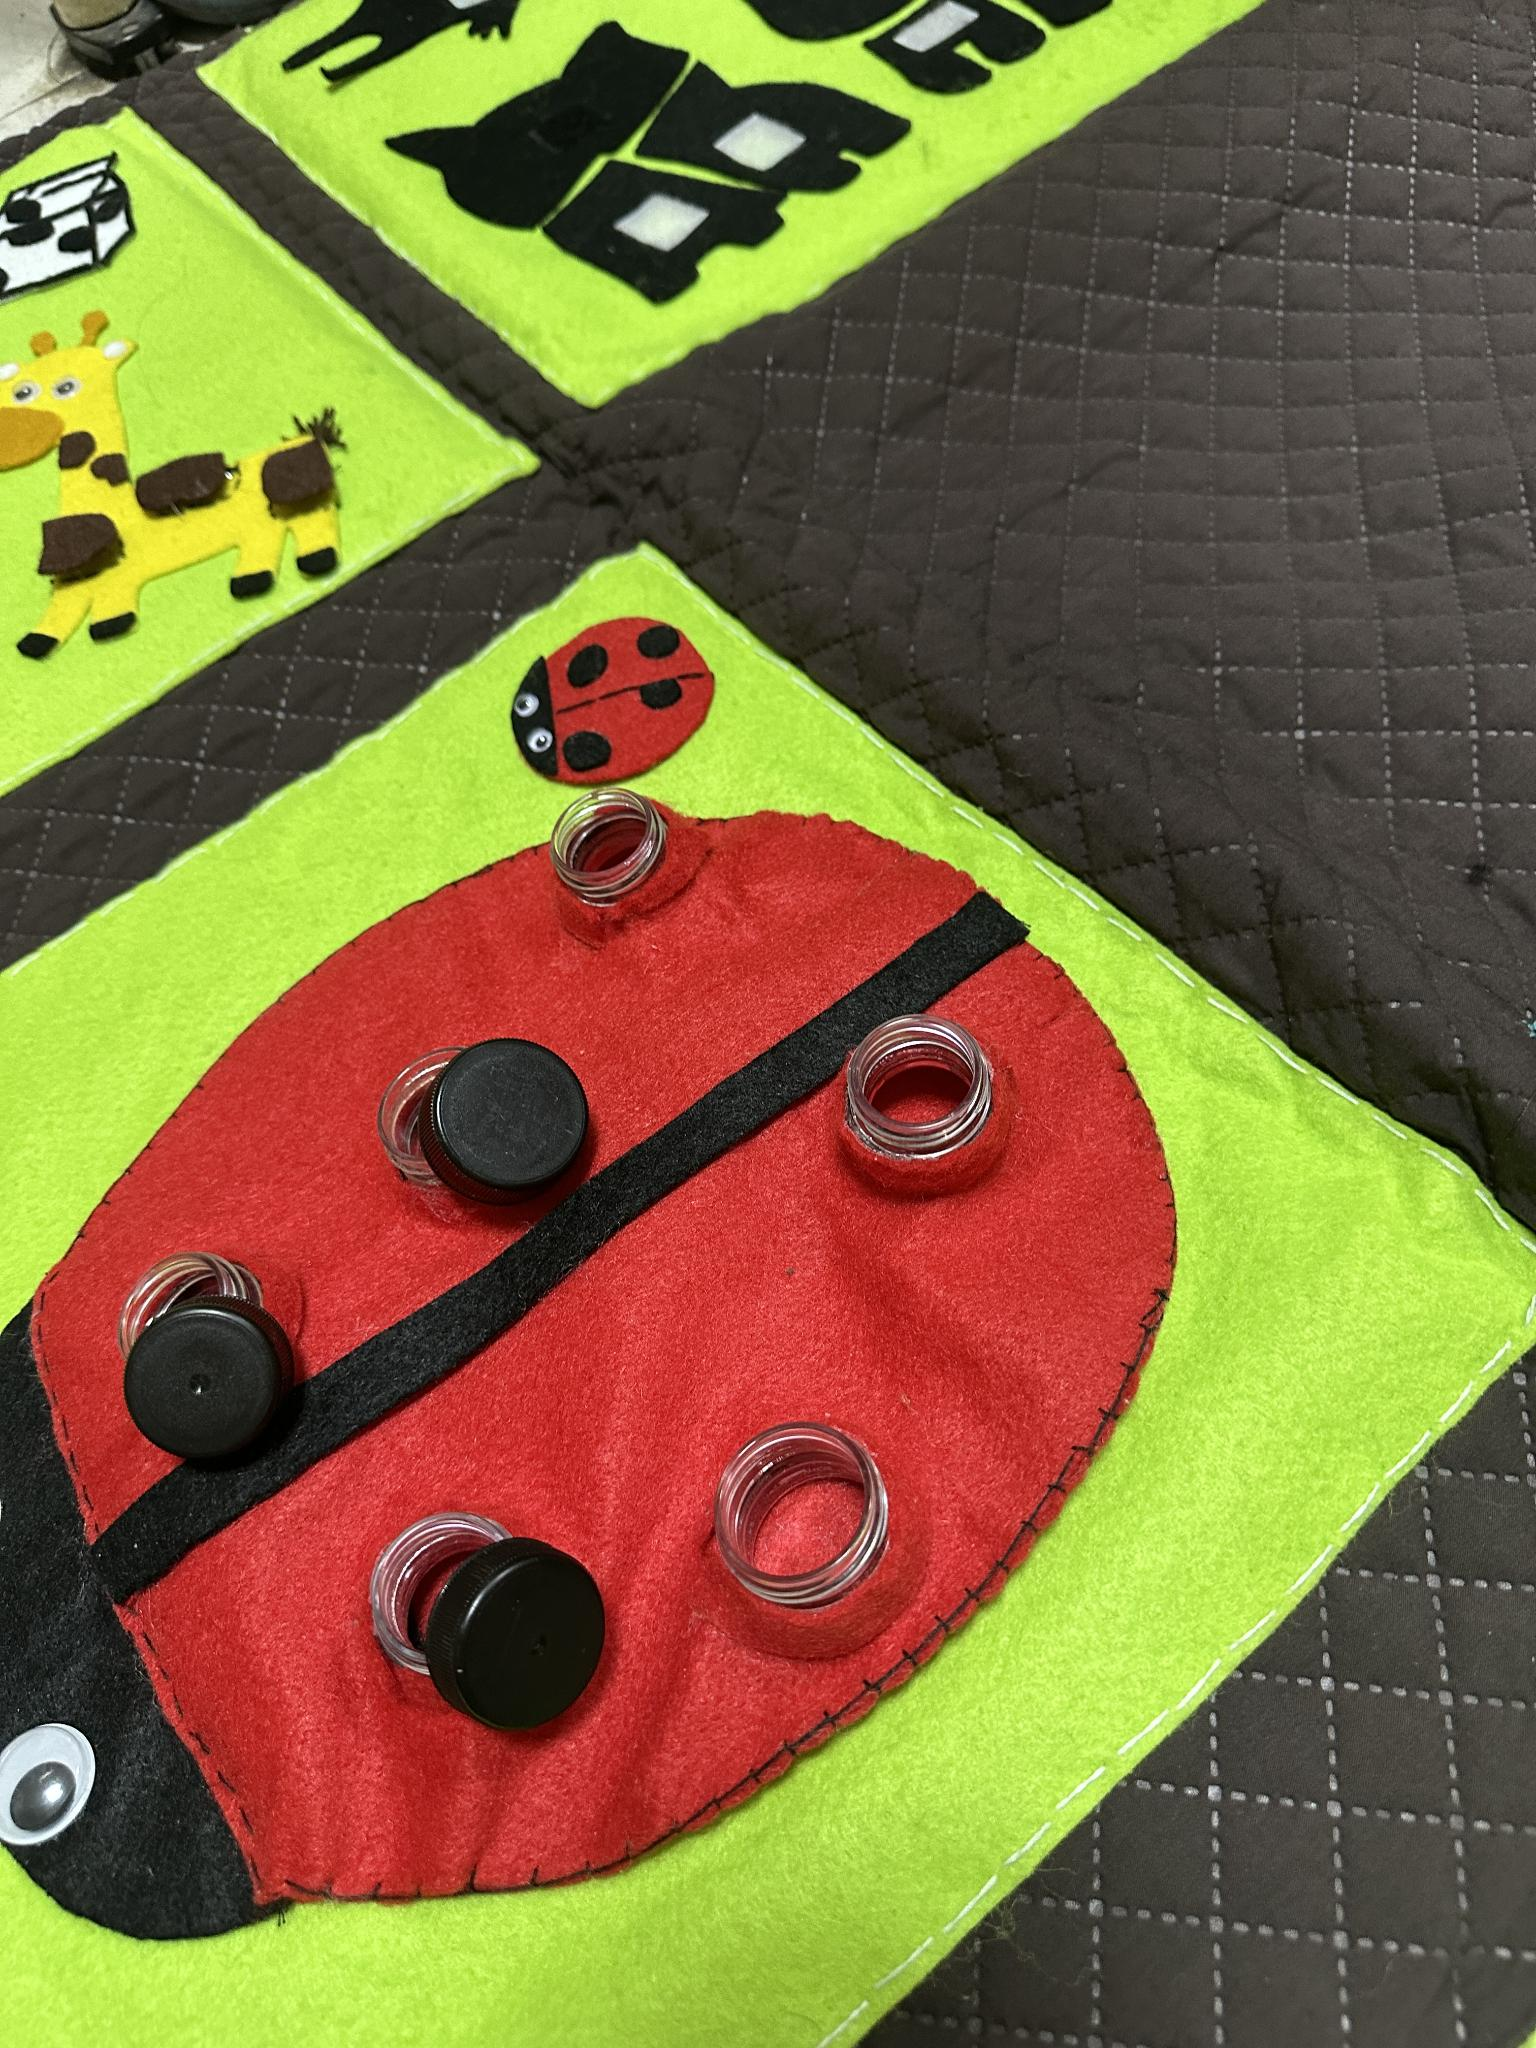cap_ng: (346, 1474, 632, 1744), (361, 1018, 621, 1228), (107, 1236, 324, 1484)
